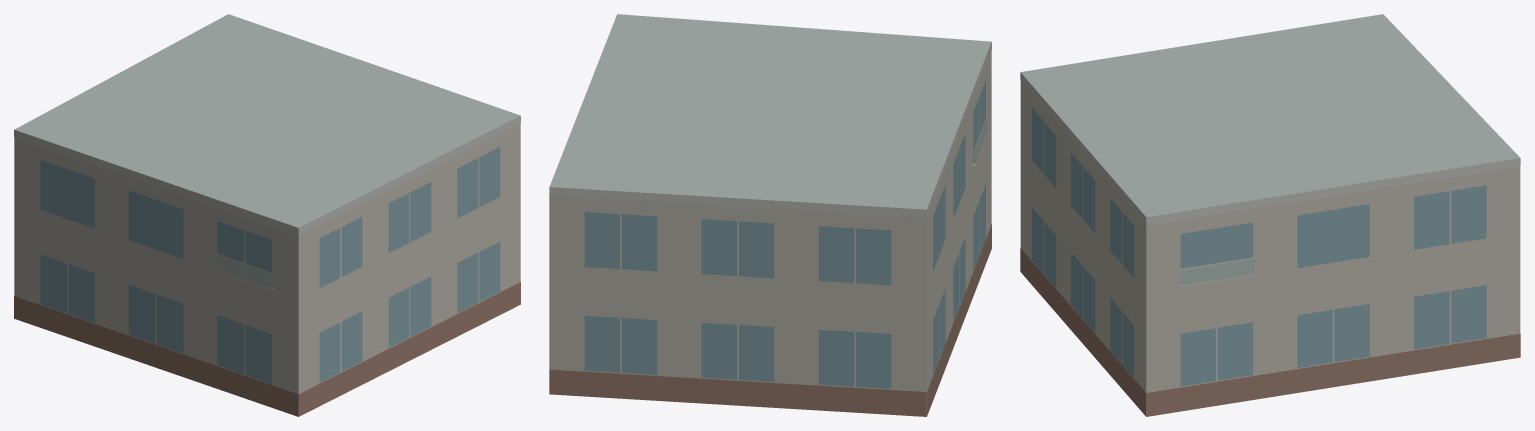
The model's file is survey-upis-32480599.glb.
The picture shows the model from 3 angles, left to right: view 1: azimuth 30°, elevation 25°; view 2: azimuth 150°, elevation 25°; view 3: azimuth 270°, elevation 25°; orthographic projection. The views are drawn at different scales.
Parts seen in each view (by area): view 1: survey-upis-32480599.tmp; view 2: survey-upis-32480599.tmp; view 3: survey-upis-32480599.tmp.
Boxes of the visible parts, bbox=[...] form: survey-upis-32480599.tmp: bbox=[14, 14, 520, 416]; survey-upis-32480599.tmp: bbox=[549, 14, 991, 416]; survey-upis-32480599.tmp: bbox=[1020, 14, 1520, 416].
Bounding box in the file's own units: 13.33 × 6.1 × 13.86.
